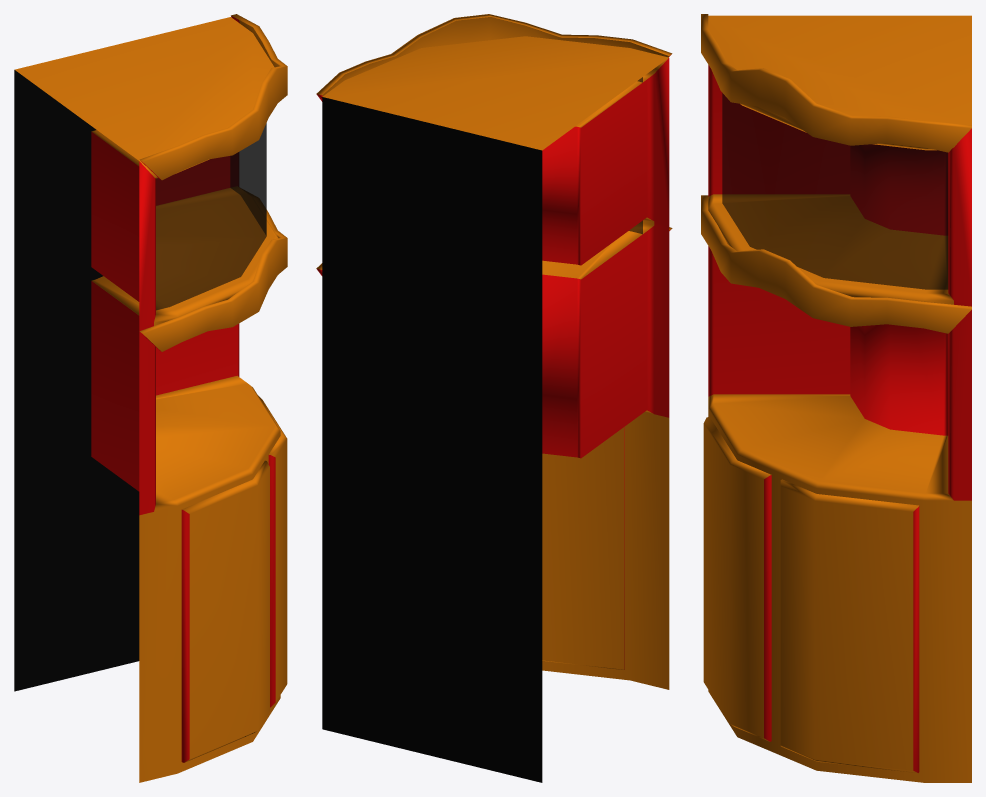
The model's file is SM_ShelfCabinet_001.fbx.
The picture shows the model from 3 angles, left to right: view 1: azimuth 30°, elevation 25°; view 2: azimuth 150°, elevation 25°; view 3: azimuth 270°, elevation 25°; orthographic projection. The views are drawn at different scales.
Visible parts, largest first — view 1: SM_ShelfCabinet_001; view 2: SM_ShelfCabinet_001; view 3: SM_ShelfCabinet_001.
Part boxes in pixels (x1=…): SM_ShelfCabinet_001: x1=14, y1=14, x2=287, y2=782; SM_ShelfCabinet_001: x1=316, y1=14, x2=672, y2=782; SM_ShelfCabinet_001: x1=701, y1=14, x2=971, y2=782.
Size of the model in its own units: 85.7 by 238 by 85.7.
